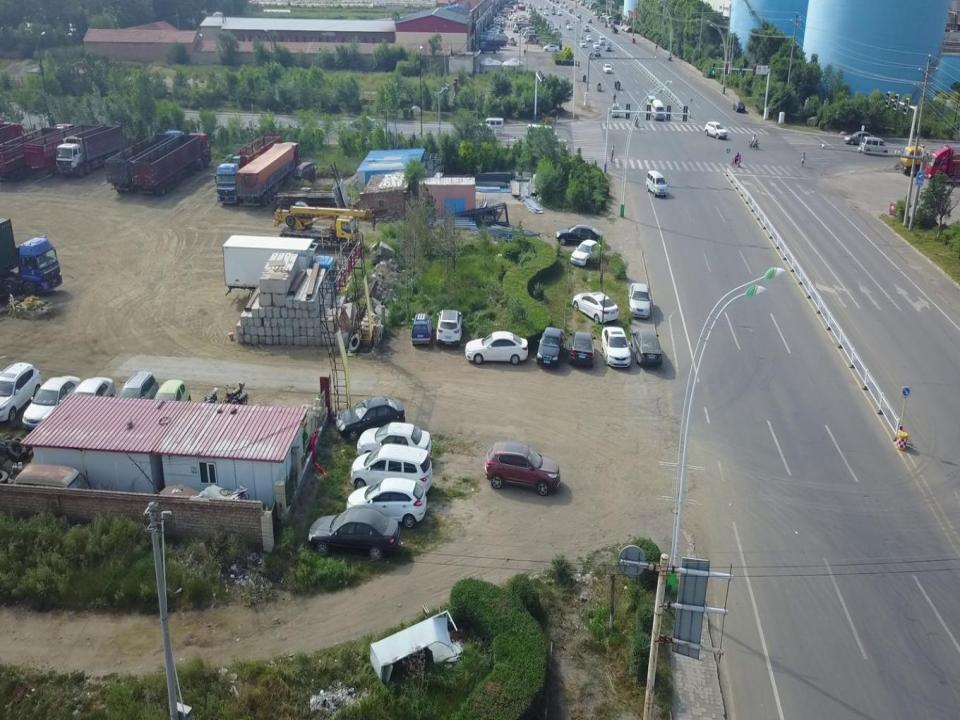car: (307, 504, 402, 557), (484, 436, 561, 497), (344, 477, 428, 526), (350, 445, 434, 489), (20, 370, 84, 425), (334, 397, 407, 441), (358, 420, 433, 456), (465, 329, 529, 367), (0, 357, 39, 418), (572, 287, 621, 325), (70, 374, 115, 410), (116, 369, 158, 404), (599, 326, 631, 370), (156, 377, 192, 413), (553, 220, 602, 246), (632, 328, 662, 370), (626, 280, 654, 320), (538, 326, 565, 367), (436, 308, 462, 349), (568, 329, 595, 368), (408, 308, 433, 344), (568, 241, 601, 267), (644, 168, 668, 197), (702, 119, 730, 140), (859, 138, 887, 158), (842, 129, 875, 145), (526, 122, 553, 139), (651, 99, 665, 120), (732, 100, 746, 113), (543, 43, 560, 51), (608, 145, 616, 161), (602, 63, 612, 74), (648, 94, 656, 106), (597, 34, 606, 44), (593, 47, 601, 57), (605, 41, 611, 53), (578, 39, 586, 48), (624, 25, 632, 33), (593, 40, 599, 50), (583, 24, 590, 32), (586, 33, 591, 43), (566, 22, 573, 29), (620, 25, 627, 31), (587, 16, 592, 23), (551, 9, 556, 16), (568, 7, 572, 15), (544, 4, 549, 10), (558, 9, 562, 16), (563, 1, 567, 8), (543, 10, 548, 15), (538, 5, 542, 10), (551, 4, 555, 9), (559, 3, 563, 8)
truck: (0, 218, 64, 302), (98, 130, 182, 188), (126, 128, 202, 188), (209, 143, 282, 204), (234, 140, 300, 202), (56, 127, 125, 176), (22, 132, 88, 169), (22, 131, 87, 168), (898, 143, 958, 180), (922, 144, 960, 184), (2, 130, 33, 173)
van: (484, 114, 506, 133)
